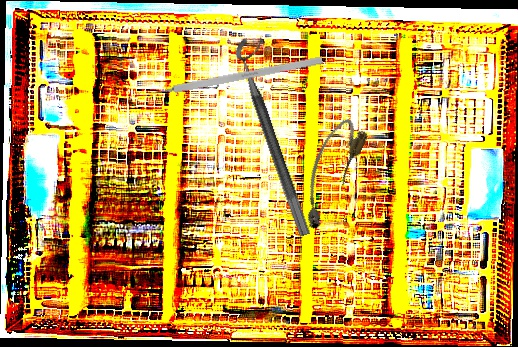Cannula: (287, 113, 372, 235)
Fixation Ring: (231, 33, 328, 238)
Hook Surgical: (138, 56, 324, 100)
